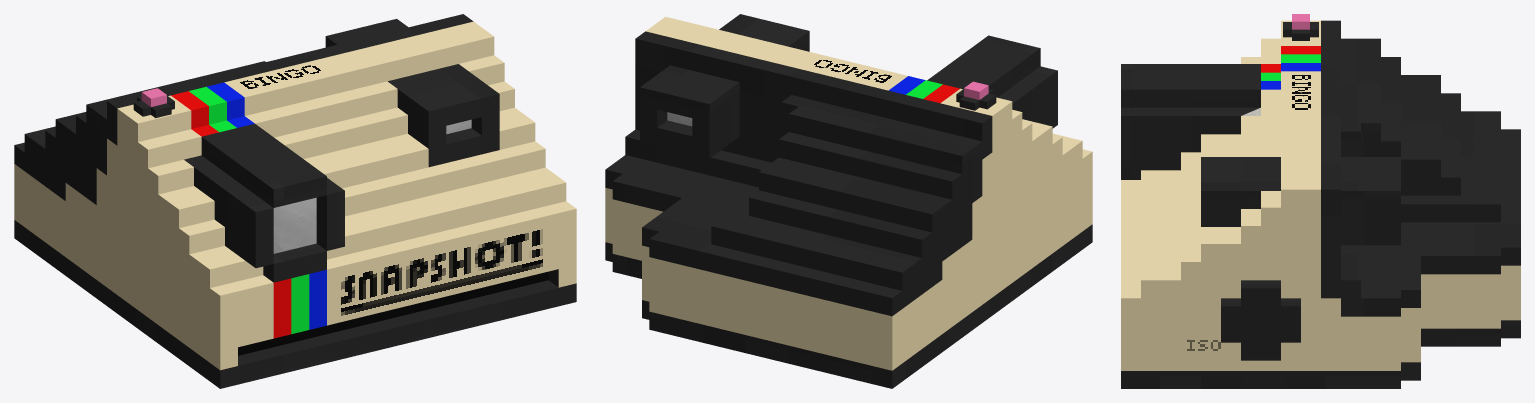
Rendered from BingoSnapshot.fbx.
3 views of the same model, side by side, from view 1: azimuth 30°, elevation 25°; view 2: azimuth 150°, elevation 25°; view 3: azimuth 270°, elevation 25° (orthographic). The views are drawn at different scales.
Visible parts, largest first — view 1: BingoSnapshot; view 2: BingoSnapshot; view 3: BingoSnapshot.
Boxes of the visible parts, x1,y1,x2,y2 form: BingoSnapshot: (14,14,576,388); BingoSnapshot: (605,14,1092,388); BingoSnapshot: (1121,14,1520,388).
Size of the model in its own units: 2.09 by 1.19 by 2.
Materials: 1 (1 with a texture image).
